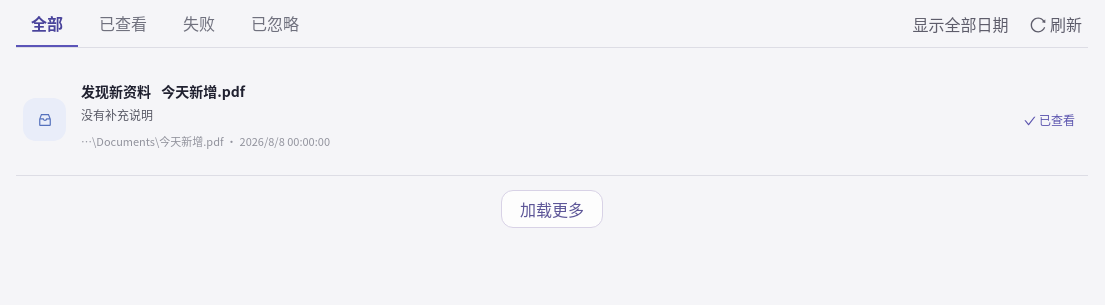
Test: InboxPage › keeps the home date filter and loads the next cursor page
Check: the text "今天新增.pdf" is shown, box [161,81,245,101]
Click the button "加载更多" at x=552, y=209, box [501,190,603,228]
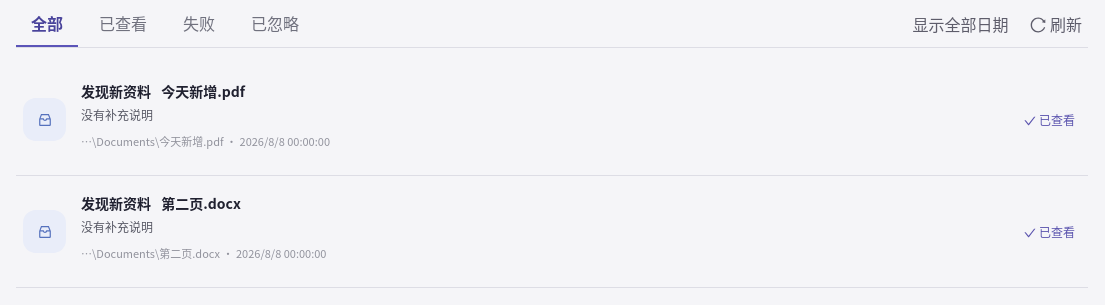
Check: the text "第二页.docx" is shown, box [161,193,241,213]
